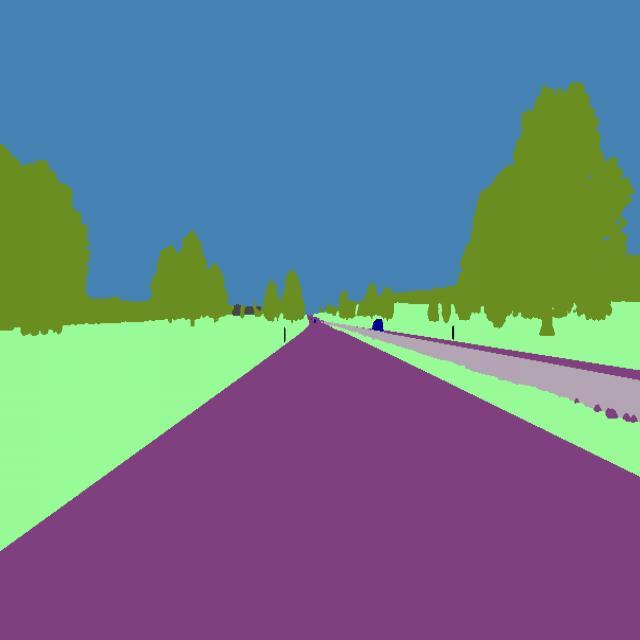safe: (370, 314, 388, 334)
